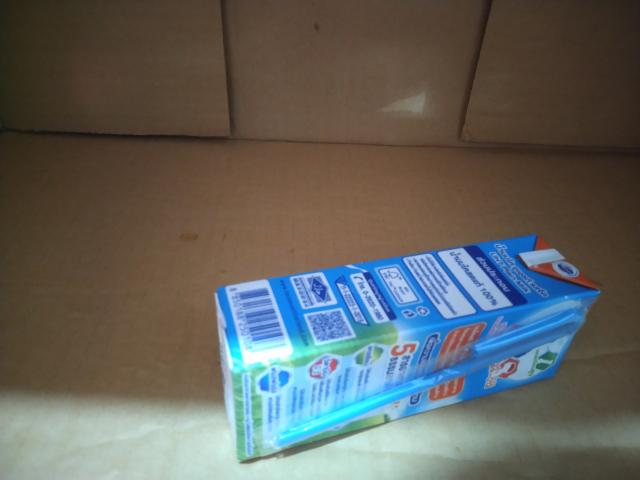drink_box: (209, 205, 607, 472)
